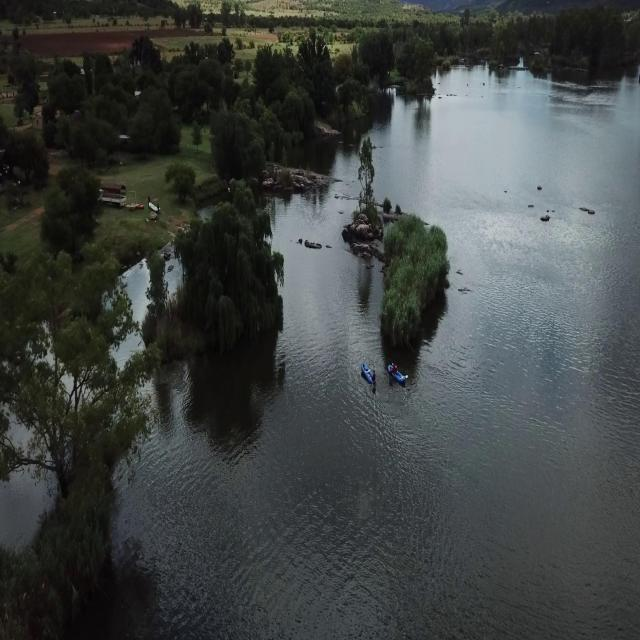kayak: (387, 358, 410, 387), (360, 360, 378, 387)
